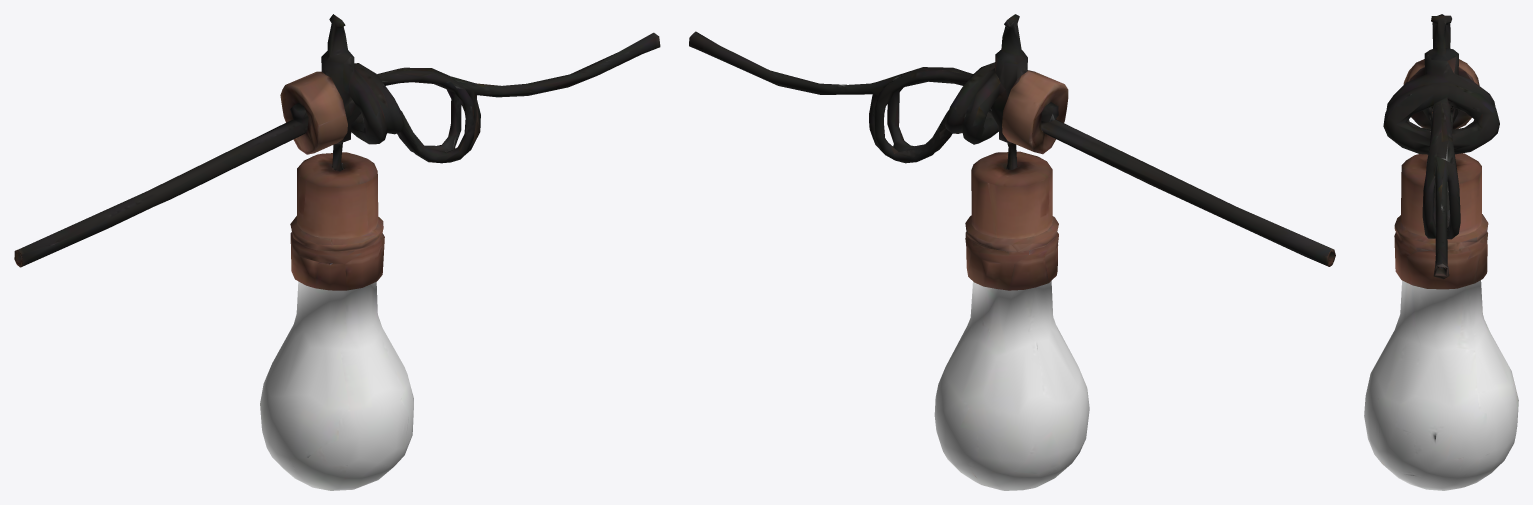
File: preview.glb
The picture shows the model from 3 angles, left to right: view 1: azimuth 30°, elevation 25°; view 2: azimuth 150°, elevation 25°; view 3: azimuth 270°, elevation 25°; orthographic projection.
Parts seen in each view (by area): view 1: SM_SM_AI_hanging_bulb; view 2: SM_SM_AI_hanging_bulb; view 3: SM_SM_AI_hanging_bulb.
Boxes of the visible parts, x1,y1,x2,y2 form: SM_SM_AI_hanging_bulb: (14, 14, 660, 490); SM_SM_AI_hanging_bulb: (689, 14, 1335, 490); SM_SM_AI_hanging_bulb: (1364, 14, 1518, 490).
Size of the model in its own units: 0.8605 by 0.6 by 0.1801.
Materials: 1 (1 with a texture image).
